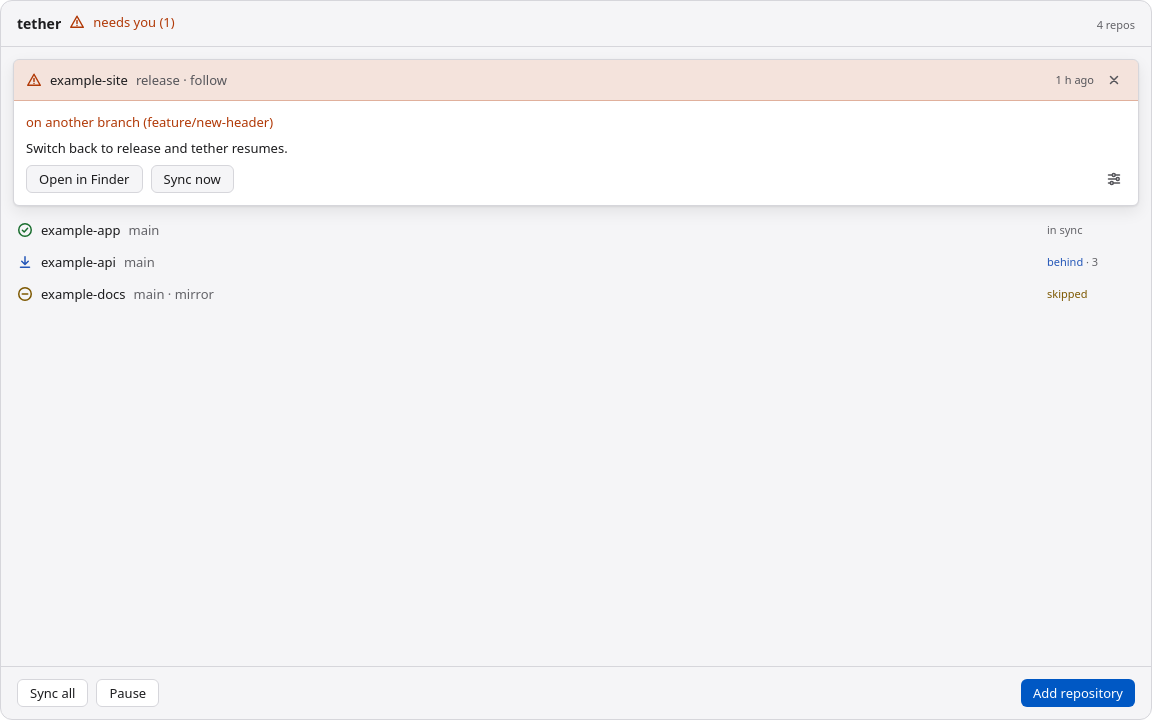
Dismissing a callout › lists the repo as a needs-you row, and the header still counts it
Step 1. Click the button named "Dismiss until it changes" → [1114, 80], box 1102,68 -> 1126,92
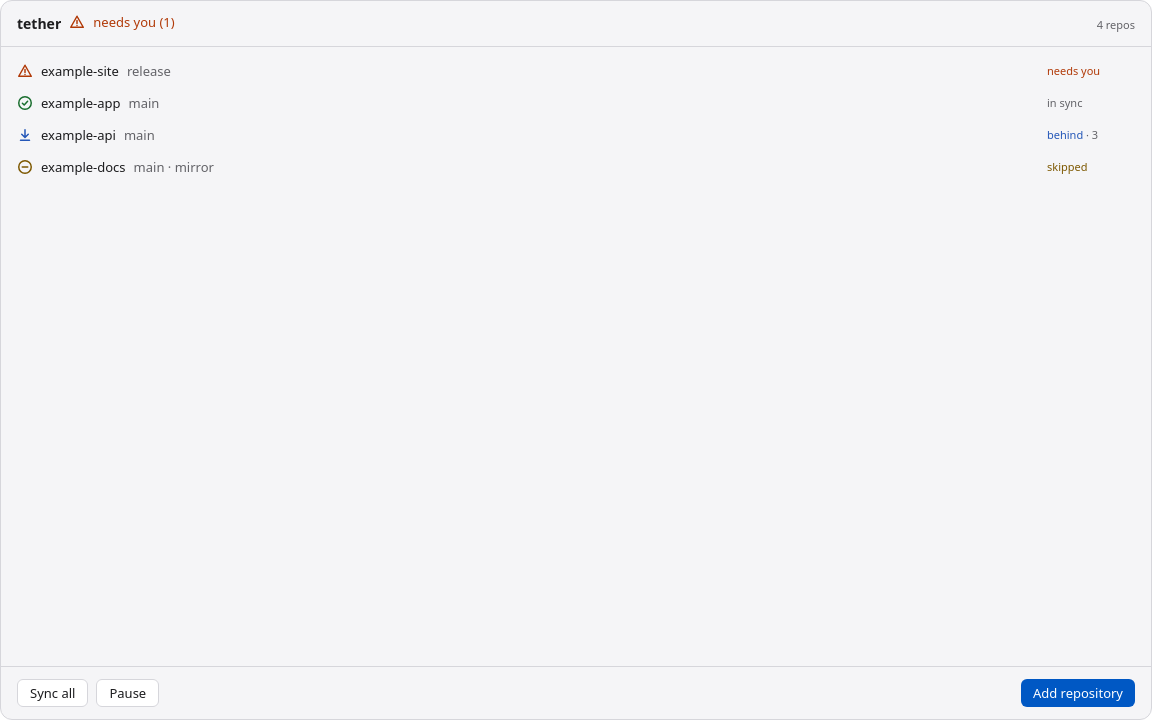
Expected: the message reads "needs you (1)", 93,13 -> 175,31
Expected: the text "needs you" is shown, 1047,63 -> 1100,78
